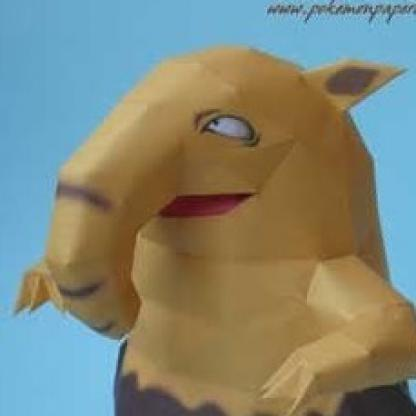Drowzee: (16, 30, 415, 415)
